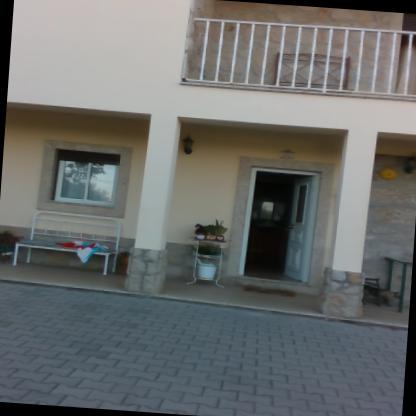open: (236, 158, 336, 298)
